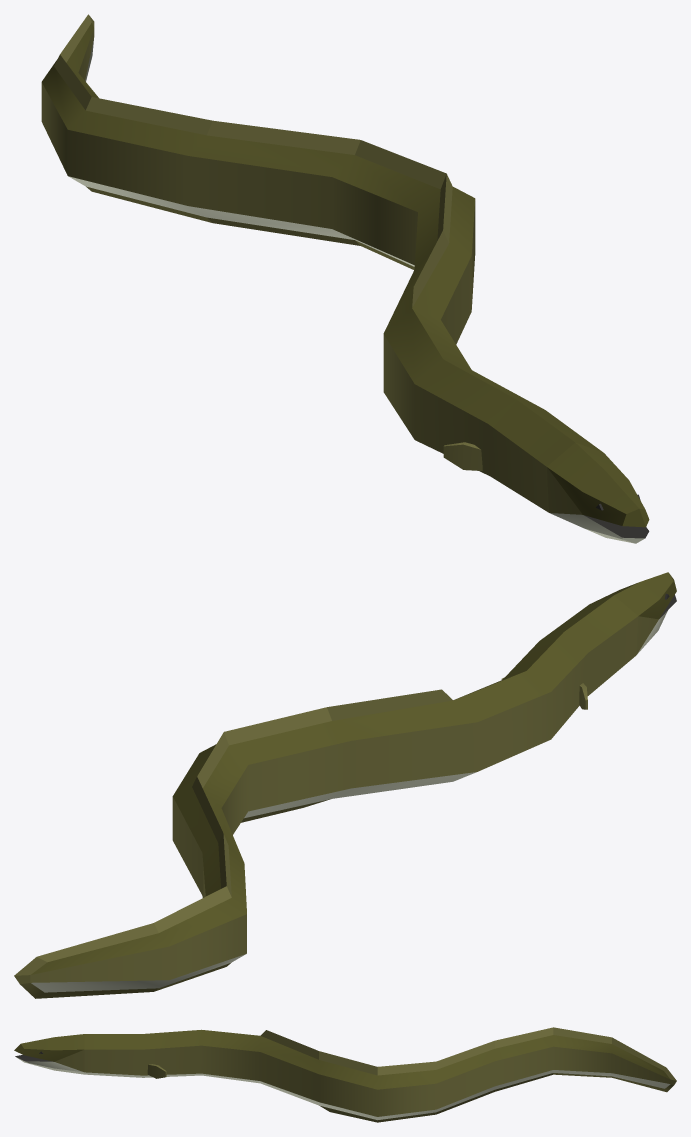
Rendered from Anguilla_anguilla.glb.
3 renders of one model, top to bottom at view 1: azimuth 30°, elevation 25°; view 2: azimuth 150°, elevation 25°; view 3: azimuth 270°, elevation 25°, orthographic. The views are drawn at different scales.
Parts seen in each view (by area): view 1: Geo_Eel; view 2: Geo_Eel; view 3: Geo_Eel.
Boxes of the visible parts, x1=… form: Geo_Eel: x1=41, y1=14, x2=649, y2=543; Geo_Eel: x1=14, y1=572, x2=676, y2=998; Geo_Eel: x1=14, y1=1027, x2=676, y2=1122.
Bounding box in the file's own units: 11.81 × 5.39 × 55.68.
1 material, 1 textured.
